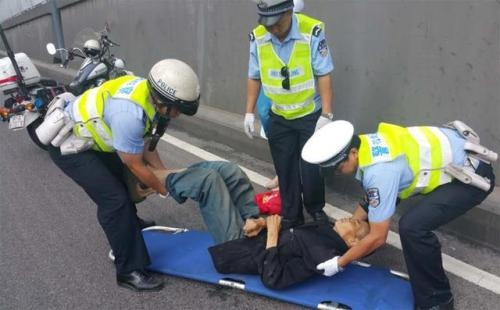falling: (129, 148, 383, 296)
